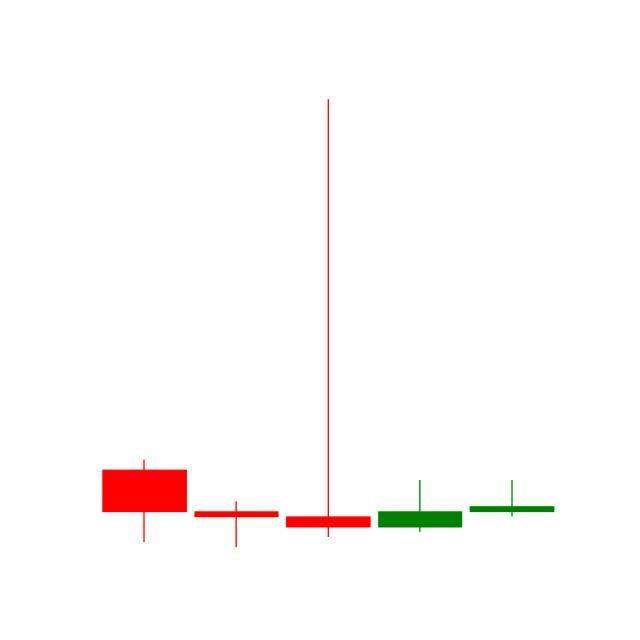Gravestone Doji: (466, 480, 559, 518)
